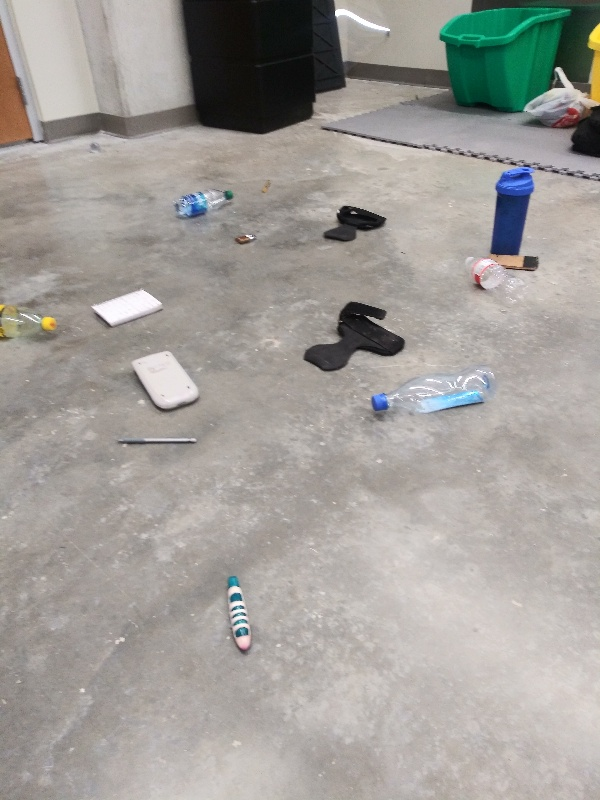bottle: (368, 363, 497, 423), (458, 250, 528, 308), (1, 298, 61, 341), (172, 184, 235, 223)
